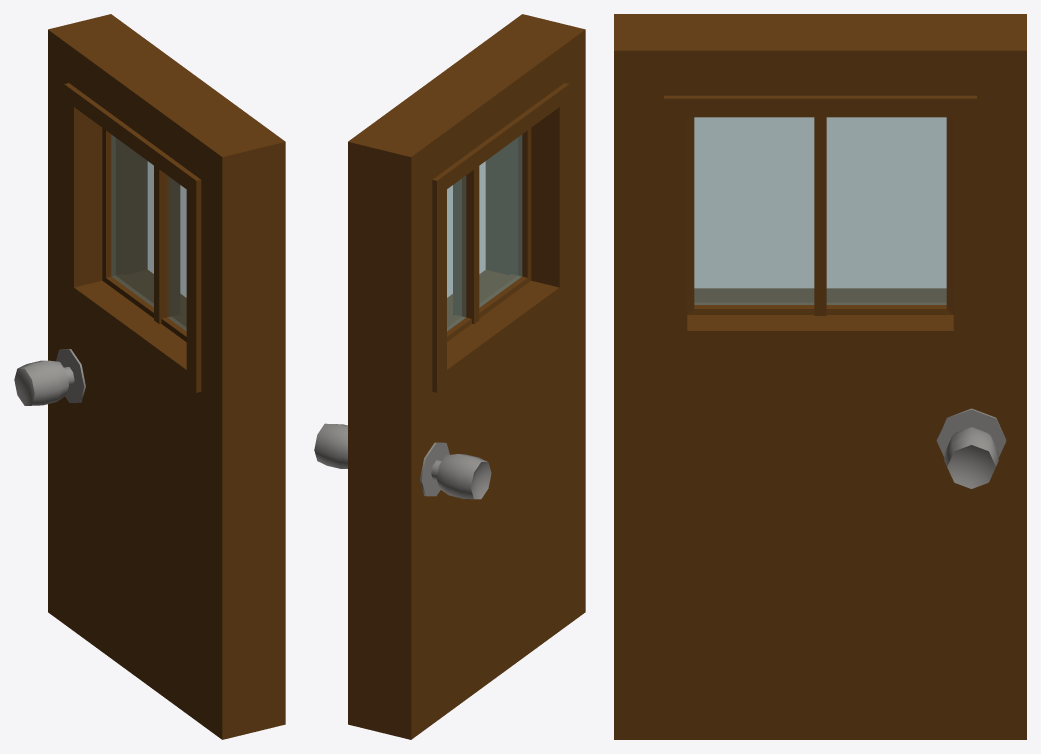
Rendered from Door.fbx.
The picture shows the model from 3 angles, left to right: view 1: azimuth 30°, elevation 25°; view 2: azimuth 150°, elevation 25°; view 3: azimuth 270°, elevation 25°; orthographic projection. The views are drawn at different scales.
Parts seen in each view (by area): view 1: Door, Door_Window; view 2: Door, Door_Window; view 3: Door, Door_Window.
Part boxes in pixels (bbox=[...]): Door: bbox=[14, 14, 285, 739]; Door_Window: bbox=[111, 134, 186, 331]; Door: bbox=[314, 14, 585, 739]; Door_Window: bbox=[447, 135, 522, 331]; Door: bbox=[614, 14, 1026, 739]; Door_Window: bbox=[694, 117, 946, 304].
Size of the model in its own units: 61.52 by 219 by 119.
